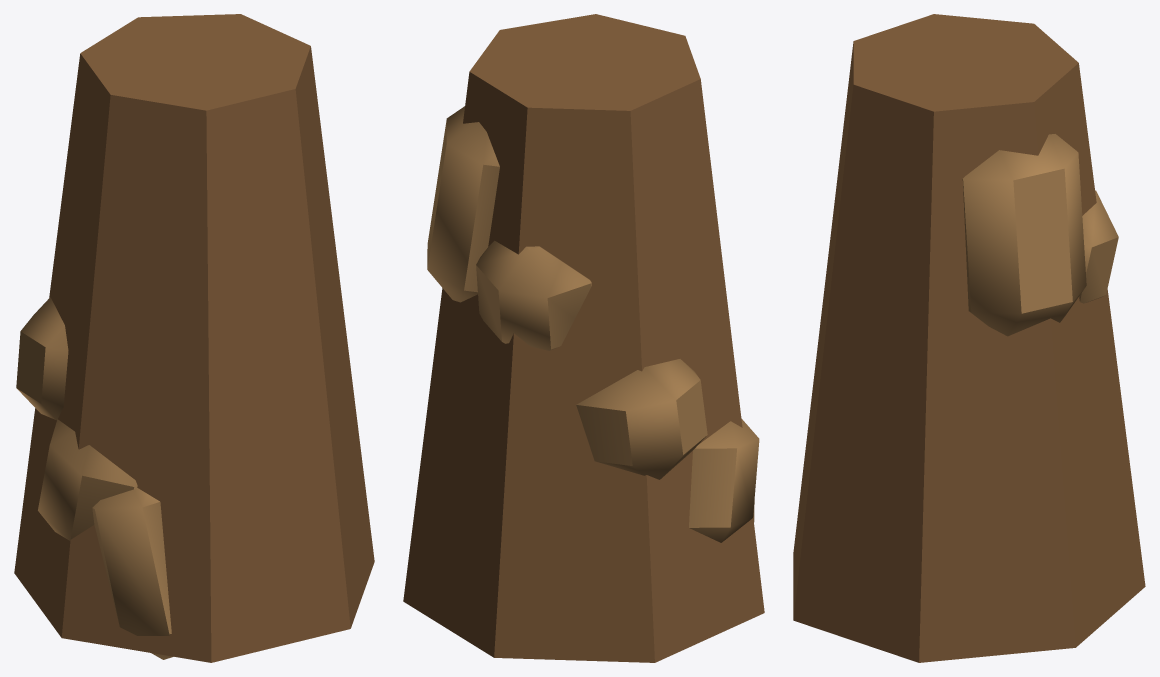
The model's file is cv_sand_rock.glb.
3 renders of one model, left to right at view 1: azimuth 30°, elevation 25°; view 2: azimuth 150°, elevation 25°; view 3: azimuth 270°, elevation 25°, orthographic.
Parts seen in each view (by area): view 1: body; view 2: body; view 3: body.
Part boxes in pixels (x1=…): body: x1=14, y1=14, x2=374, y2=662; body: x1=403, y1=14, x2=764, y2=662; body: x1=793, y1=14, x2=1145, y2=662.
Bounding box in the file's own units: 2.44 × 4.13 × 2.38.
